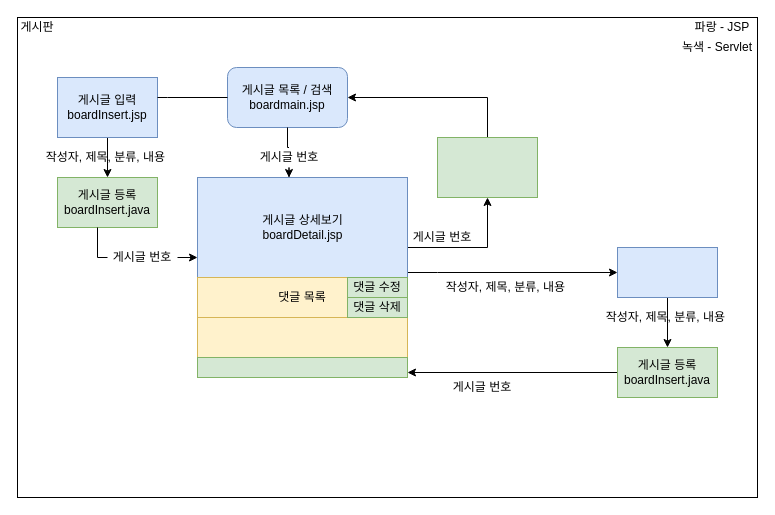
Image size: 775x515. Some labels were removed from this diagram. The shapes that lost their labels are listed below. From the top down, each one's box as (x1, y1, x2, y2) in pixels, then its label:
(436, 136, 538, 198): 게시글 삭제 boardDelete.java
(616, 246, 718, 298): 게시글 수정 입력 boardEdit.jsp
(196, 316, 408, 358): 댓글 입력
(196, 356, 408, 378): 댓글 등록
